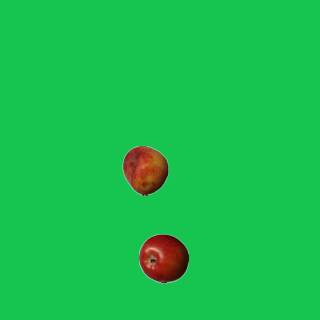Apple Braeburn: (138, 233, 188, 283)
Peach: (120, 145, 170, 195)
